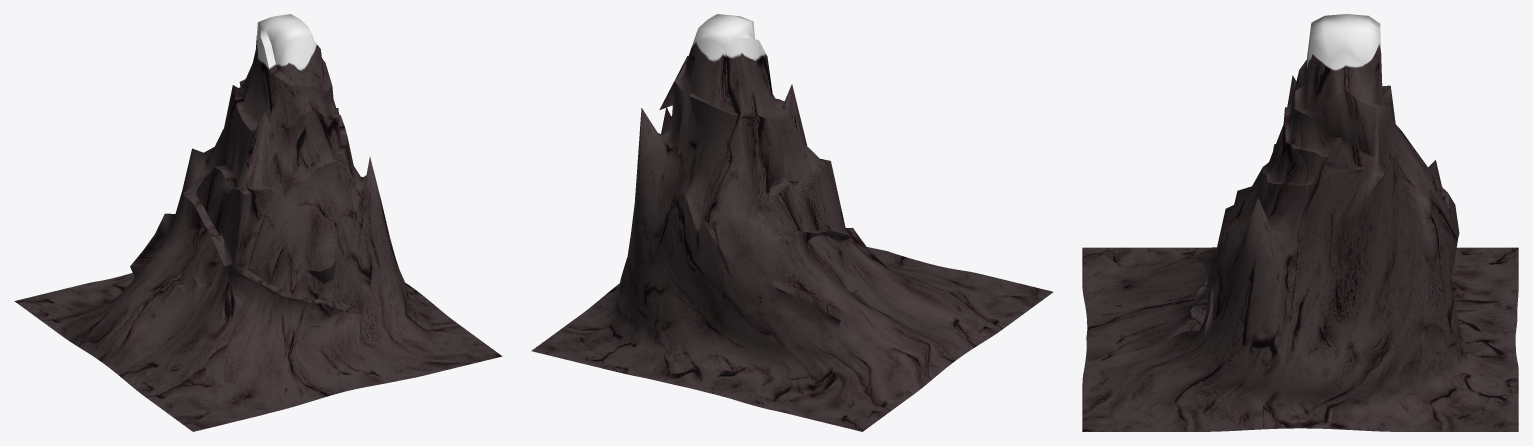
File: HikingMountain.glb
3 views of the same model, side by side, from view 1: azimuth 30°, elevation 25°; view 2: azimuth 150°, elevation 25°; view 3: azimuth 270°, elevation 25° (orthographic). The views are drawn at different scales.
Parts seen in each view (by area): view 1: Plane; view 2: Plane; view 3: Plane.
Part boxes in pixels (box(x1,y1,x2,y2)): Plane: box(14, 14, 502, 431); Plane: box(531, 14, 1053, 431); Plane: box(1082, 14, 1518, 431).
Bounding box in the file's own units: 200 × 175 × 200.
1 material, 1 textured.
